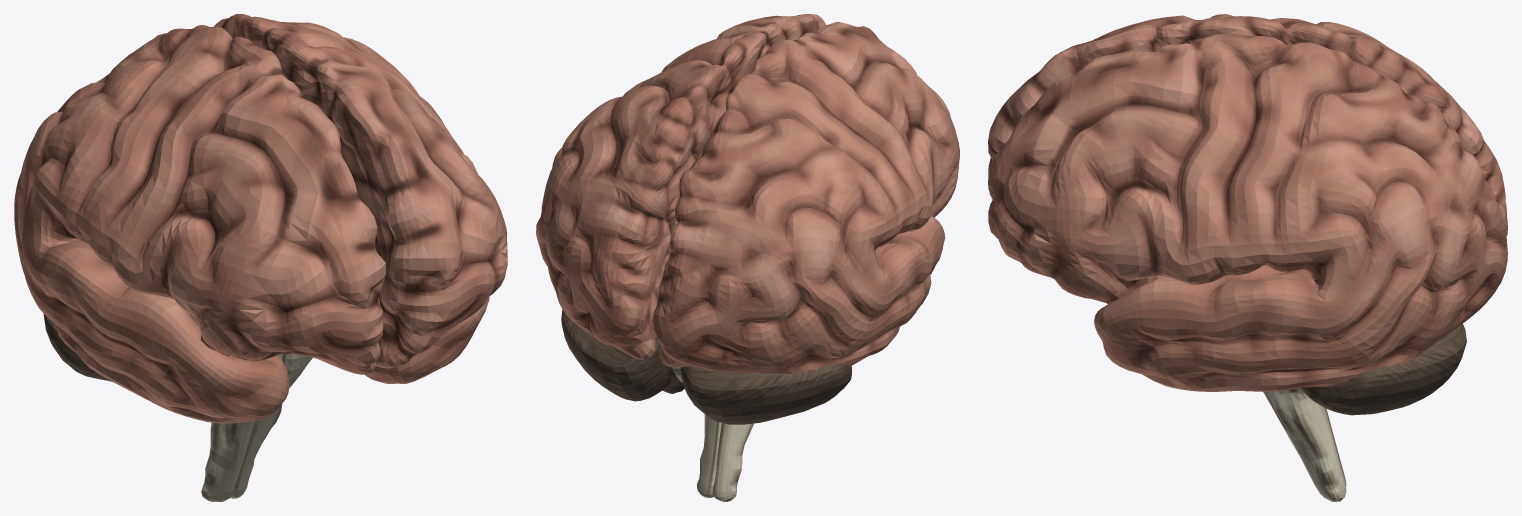
Rendered from brain.glb.
3 views of the same model, side by side, from view 1: azimuth 30°, elevation 25°; view 2: azimuth 150°, elevation 25°; view 3: azimuth 270°, elevation 25° (orthographic). The views are drawn at different scales.
Parts seen in each view (by area): view 1: Node4, Node2; view 2: Node4, Node2; view 3: Node2, Node4.
Boxes of the visible parts, x1,y1,x2,y2 form: Node4: (14, 25, 385, 501); Node2: (214, 14, 507, 498); Node4: (652, 21, 959, 501); Node2: (536, 14, 826, 497); Node2: (988, 33, 1507, 501); Node4: (988, 14, 1507, 486).
Bounding box in the file's own units: 0.234 × 0.2793 × 0.2803.
1 material, 1 textured.
